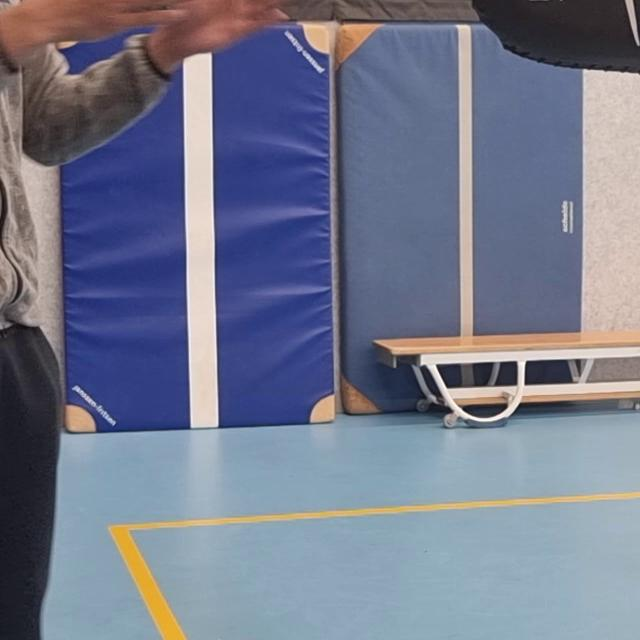paddle: (465, 0, 640, 77)
